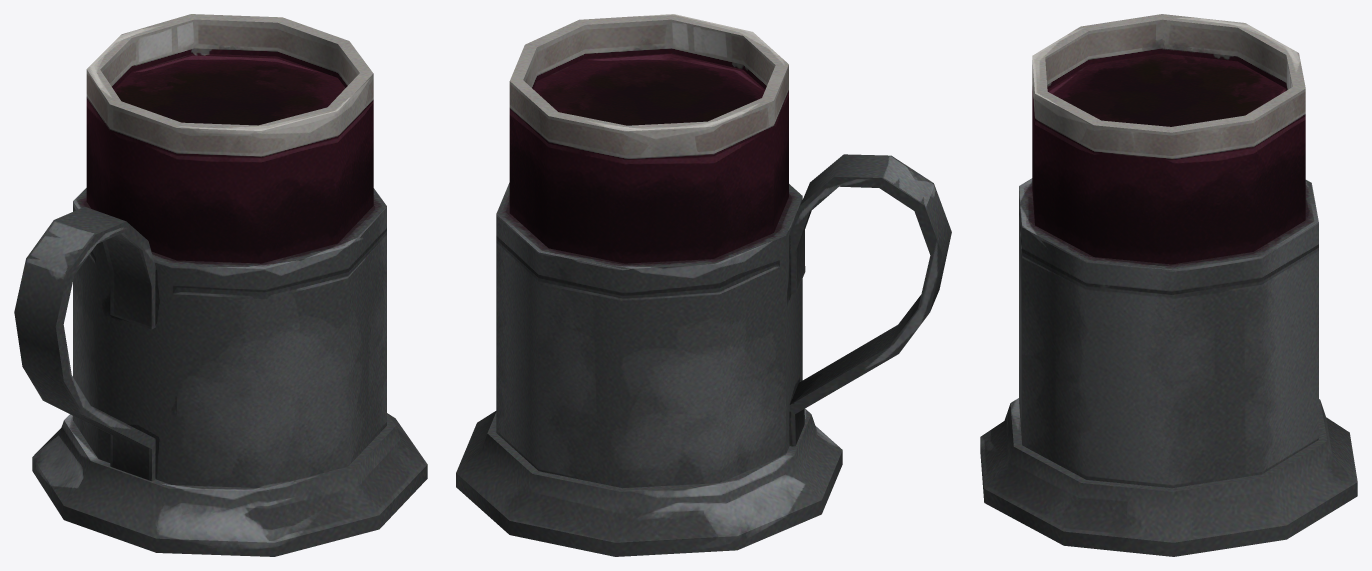
Rendered from GEAR_glintweinCup.fbx.
3 renders of one model, left to right at view 1: azimuth 30°, elevation 25°; view 2: azimuth 150°, elevation 25°; view 3: azimuth 270°, elevation 25°, orthographic.
Visible parts, largest first — view 1: glintweinCup; view 2: glintweinCup; view 3: glintweinCup.
Part boxes in pixels (bbox=[...]): glintweinCup: bbox=[14, 14, 427, 556]; glintweinCup: bbox=[456, 14, 951, 556]; glintweinCup: bbox=[980, 14, 1357, 556].
Size of the model in its own units: 15.8 by 14.38 by 12.25.
